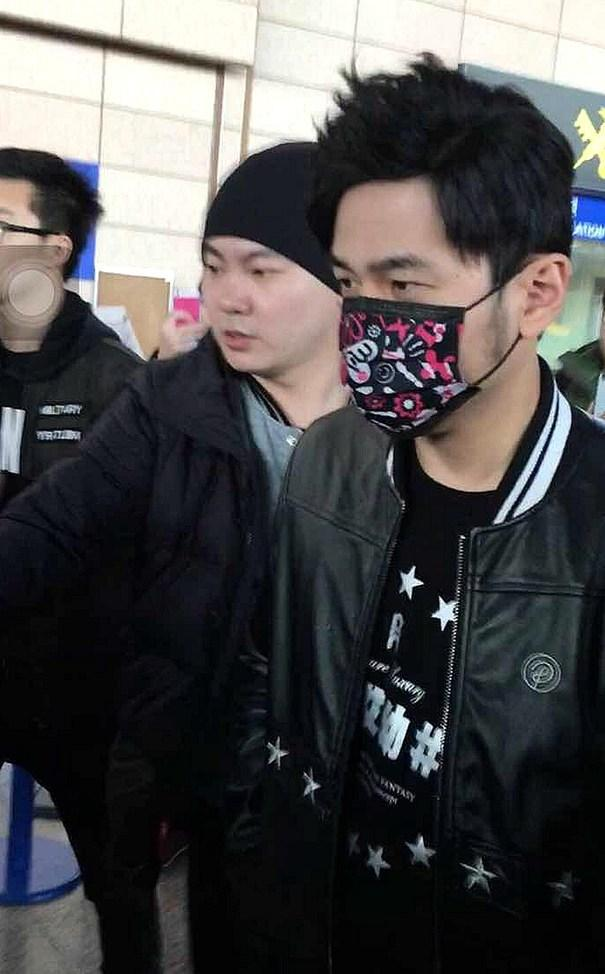NONE: (197, 237, 322, 373)
OK: (330, 230, 528, 428)
